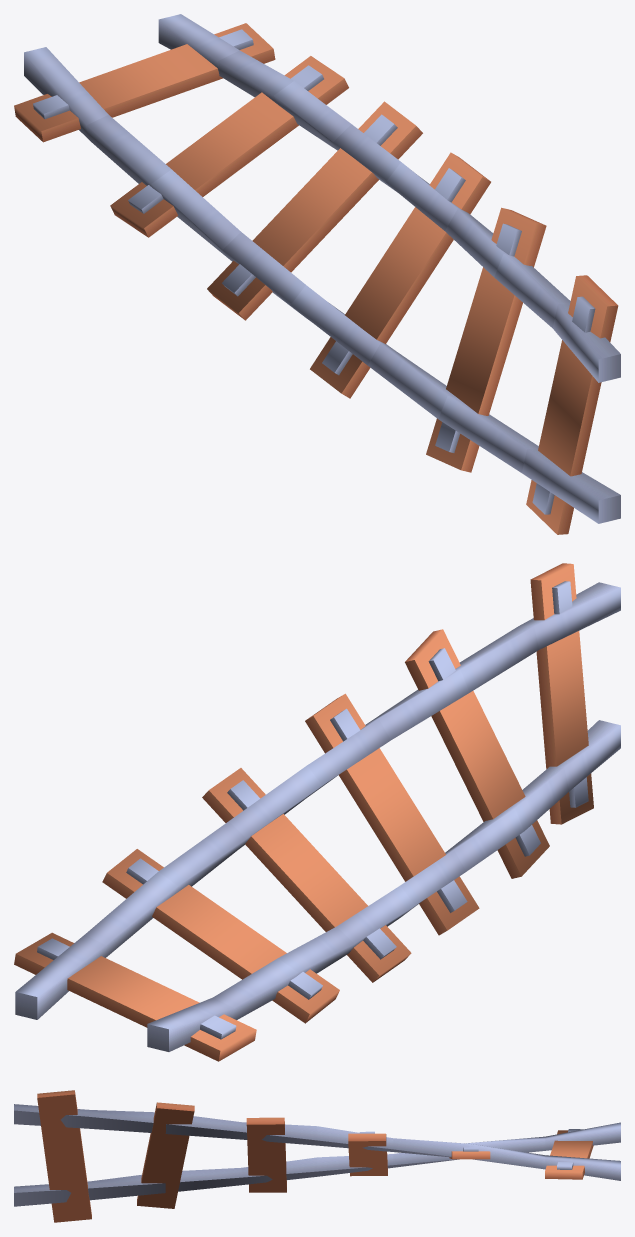
The model's file is kenney-train-railroad-damaged-straight-skew-right-side.glb.
The picture shows the model from 3 angles, top to bottom: view 1: azimuth 30°, elevation 25°; view 2: azimuth 150°, elevation 25°; view 3: azimuth 270°, elevation 25°; orthographic projection. The views are drawn at different scales.
Visible parts, largest first — view 1: railroad-damaged-straight-skew-right-side; view 2: railroad-damaged-straight-skew-right-side; view 3: railroad-damaged-straight-skew-right-side.
Boxes of the visible parts, x1,y1,x2,y2 form: railroad-damaged-straight-skew-right-side: (14,14,620,534); railroad-damaged-straight-skew-right-side: (14,563,620,1061); railroad-damaged-straight-skew-right-side: (14,1090,620,1222).
Size of the model in its own units: 1.01 by 1.02 by 4.
Materials: 1 (1 with a texture image).
